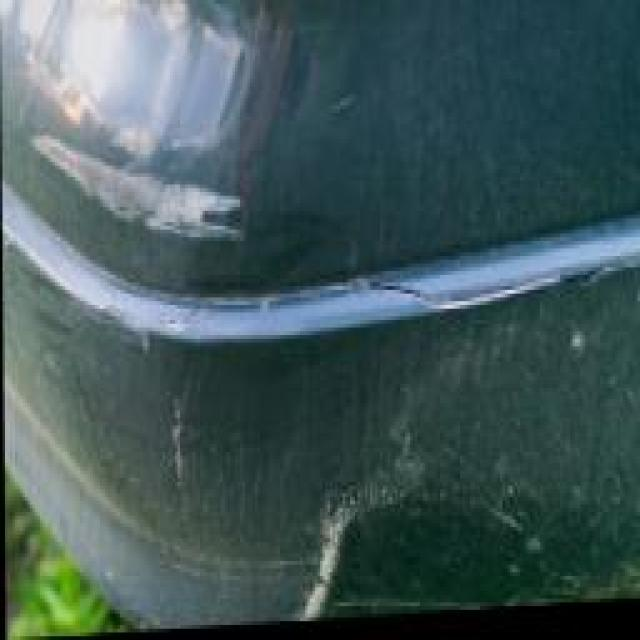Bumper: (335, 226, 639, 381)
